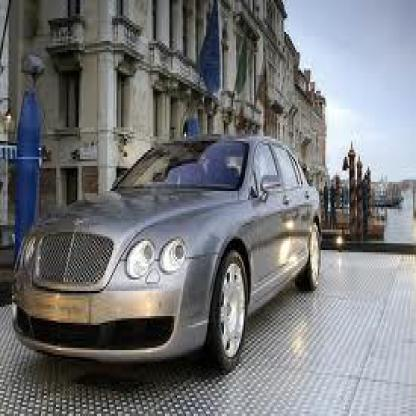Vehicle: (13, 132, 333, 375)
